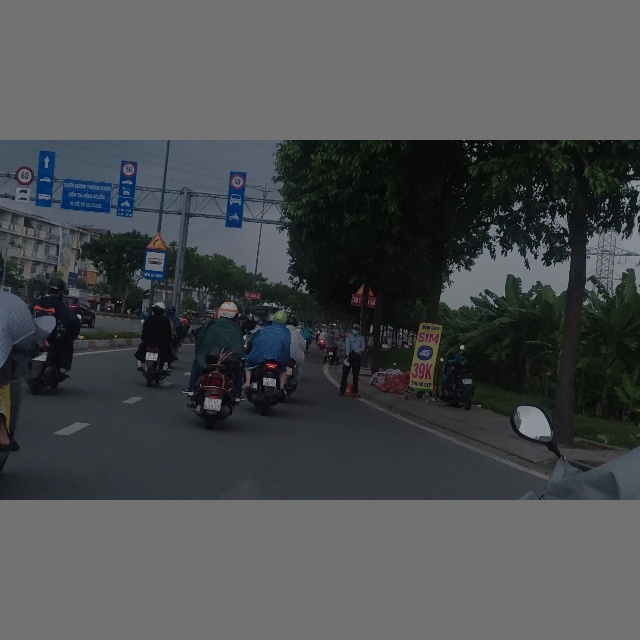I.434a: (143, 250, 166, 279)
P.127*50: (229, 174, 245, 189), (121, 162, 136, 177)
P.127*60: (16, 166, 34, 185)
S.505a*Xe tai va cong: (15, 187, 30, 202)
W.201b: (146, 232, 166, 251)
